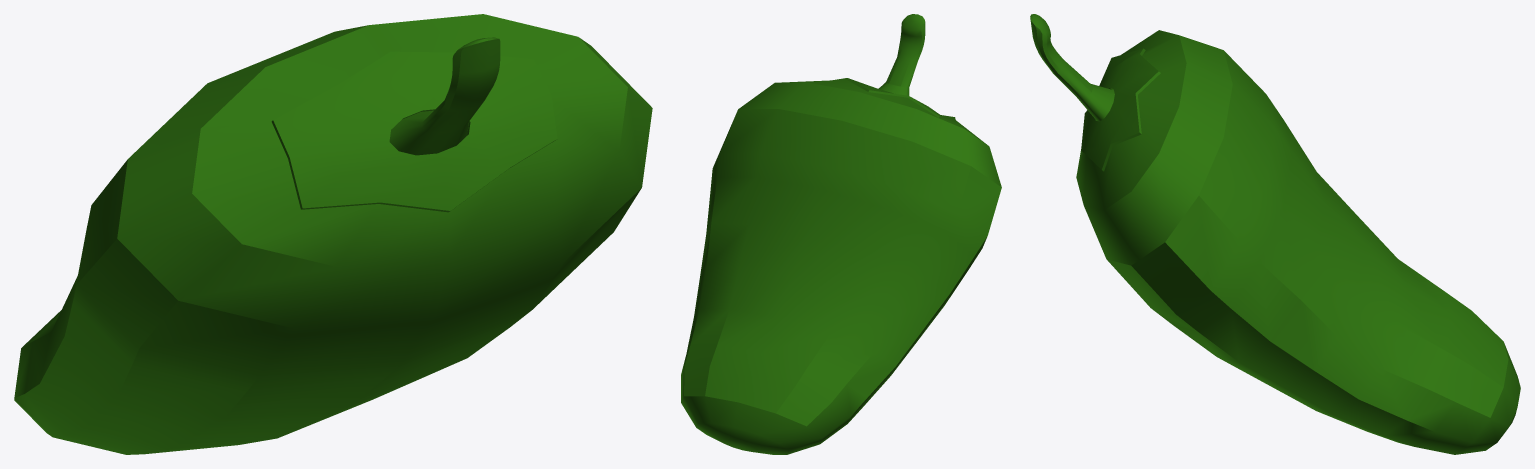
The model's file is pimenton.fbx.
3 views of the same model, side by side, from view 1: azimuth 30°, elevation 25°; view 2: azimuth 150°, elevation 25°; view 3: azimuth 270°, elevation 25° (orthographic). The views are drawn at different scales.
Parts seen in each view (by area): view 1: Cylinder.028; view 2: Cylinder.028; view 3: Cylinder.028.
Boxes of the visible parts, x1,y1,x2,y2 form: Cylinder.028: (14, 14, 652, 454); Cylinder.028: (681, 14, 1001, 454); Cylinder.028: (1030, 14, 1520, 454).
Size of the model in its own units: 139 by 152 by 161.
